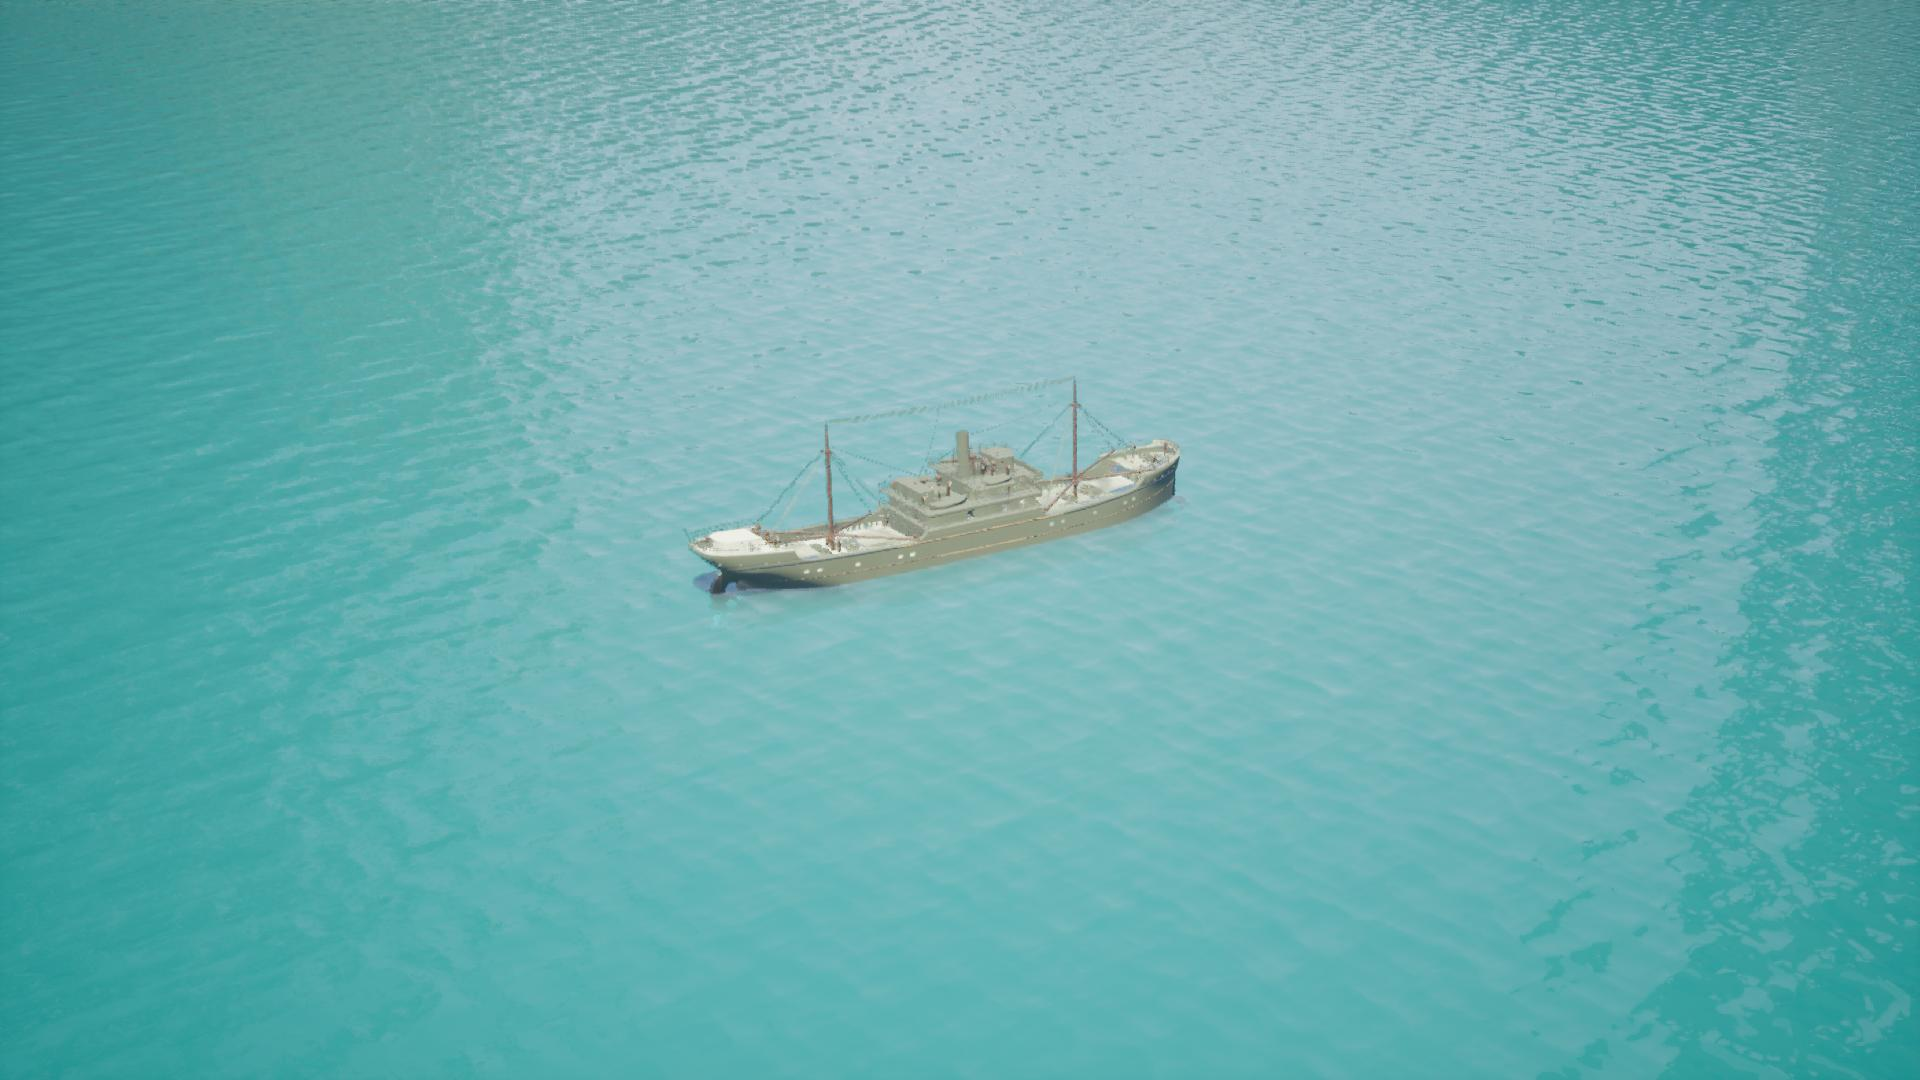Fishing Boat: (695, 423, 1178, 597)
